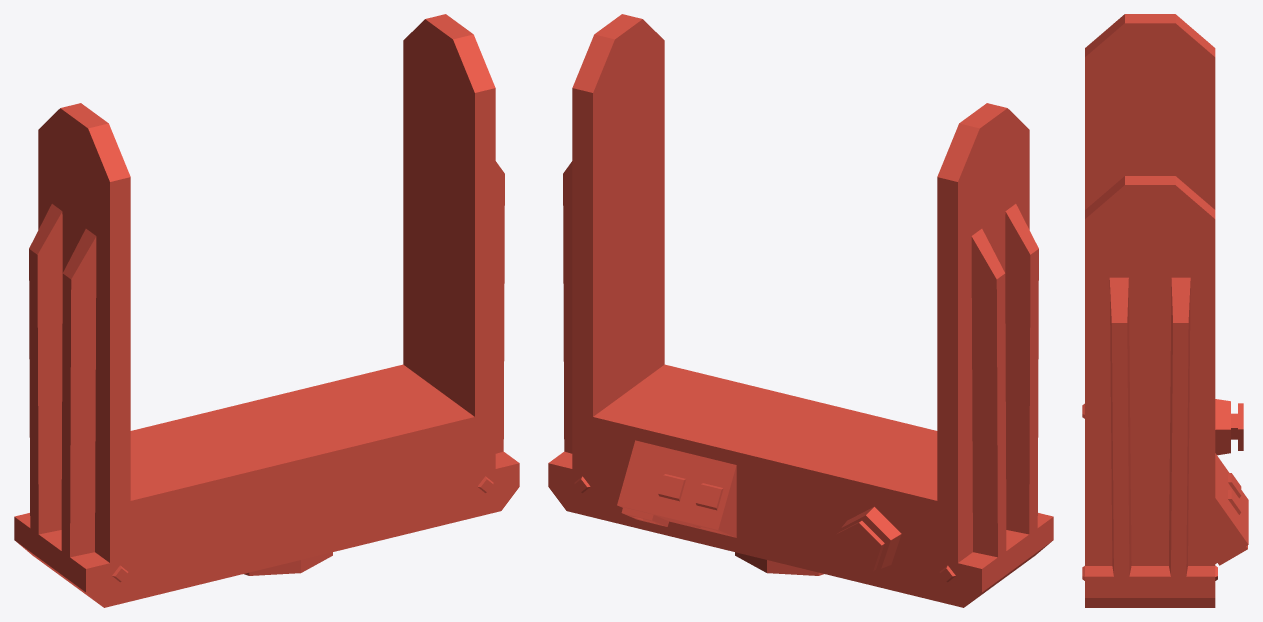
The model's file is SM_Camera_Crane_Base_Tilt.fbx.
The picture shows the model from 3 angles, left to right: view 1: azimuth 30°, elevation 25°; view 2: azimuth 150°, elevation 25°; view 3: azimuth 270°, elevation 25°; orthographic projection. The views are drawn at different scales.
Visible parts, largest first — view 1: SM_Camera_Crane_Base_Tilt; view 2: SM_Camera_Crane_Base_Tilt; view 3: SM_Camera_Crane_Base_Tilt.
Part boxes in pixels (<box>): SM_Camera_Crane_Base_Tilt: <box>14,14,519,607</box>; SM_Camera_Crane_Base_Tilt: <box>548,14,1053,607</box>; SM_Camera_Crane_Base_Tilt: <box>1082,14,1248,607</box>.
Size of the model in its own units: 17.39 by 47.66 by 50.07.
